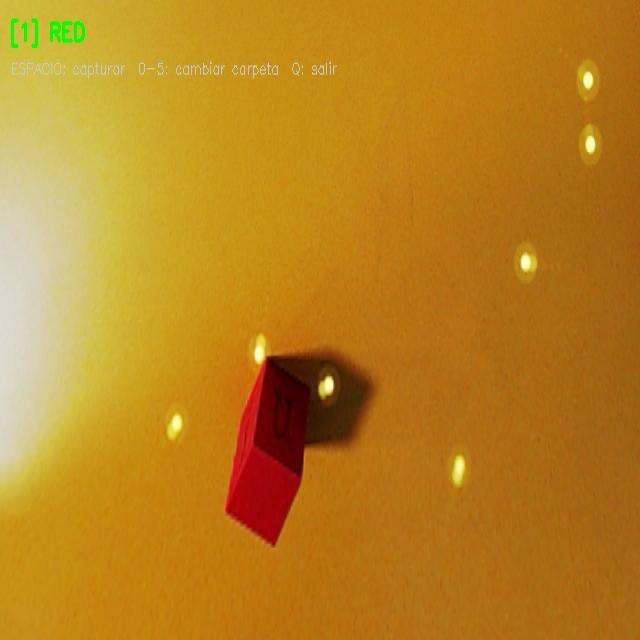red: (225, 359, 309, 544)
